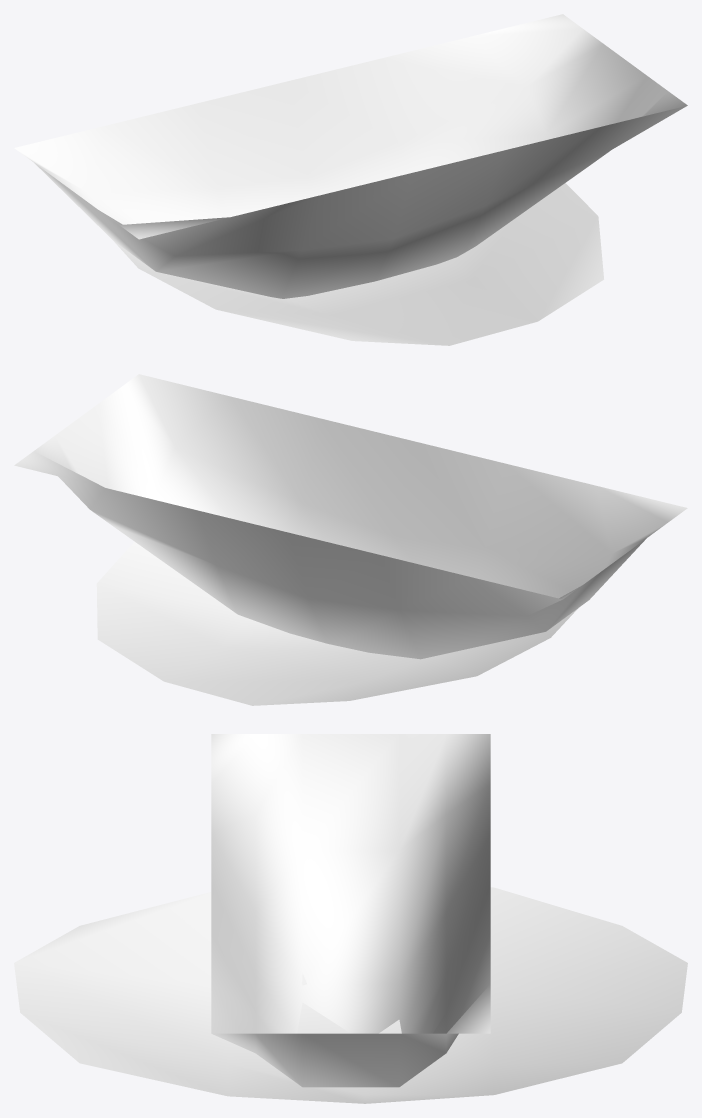
The model's file is Cobweb_Domes.FBX.
3 views of the same model, one above another, from view 1: azimuth 30°, elevation 25°; view 2: azimuth 150°, elevation 25°; view 3: azimuth 270°, elevation 25° (orthographic). The views are drawn at different scales.
Parts seen in each view (by area): view 1: Web Dome 2, Web Dome; view 2: Web Dome 2, Web Dome; view 3: Web Dome 2, Web Dome.
Part boxes in pixels (box(x1,y1,x2,y2)): Web Dome 2: box(14, 14, 687, 298); Web Dome: box(113, 183, 603, 345); Web Dome 2: box(14, 374, 687, 659); Web Dome: box(96, 541, 578, 705); Web Dome 2: box(211, 734, 490, 1087); Web Dome: box(14, 887, 687, 1103).
Size of the model in its own units: 333 by 84.12 by 317.
